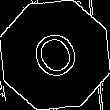O_SE: (24, 22, 86, 88)
